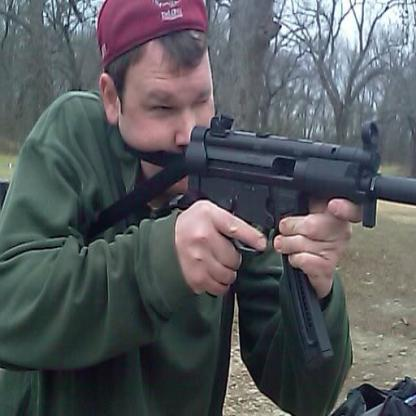gun: (185, 113, 415, 276)
